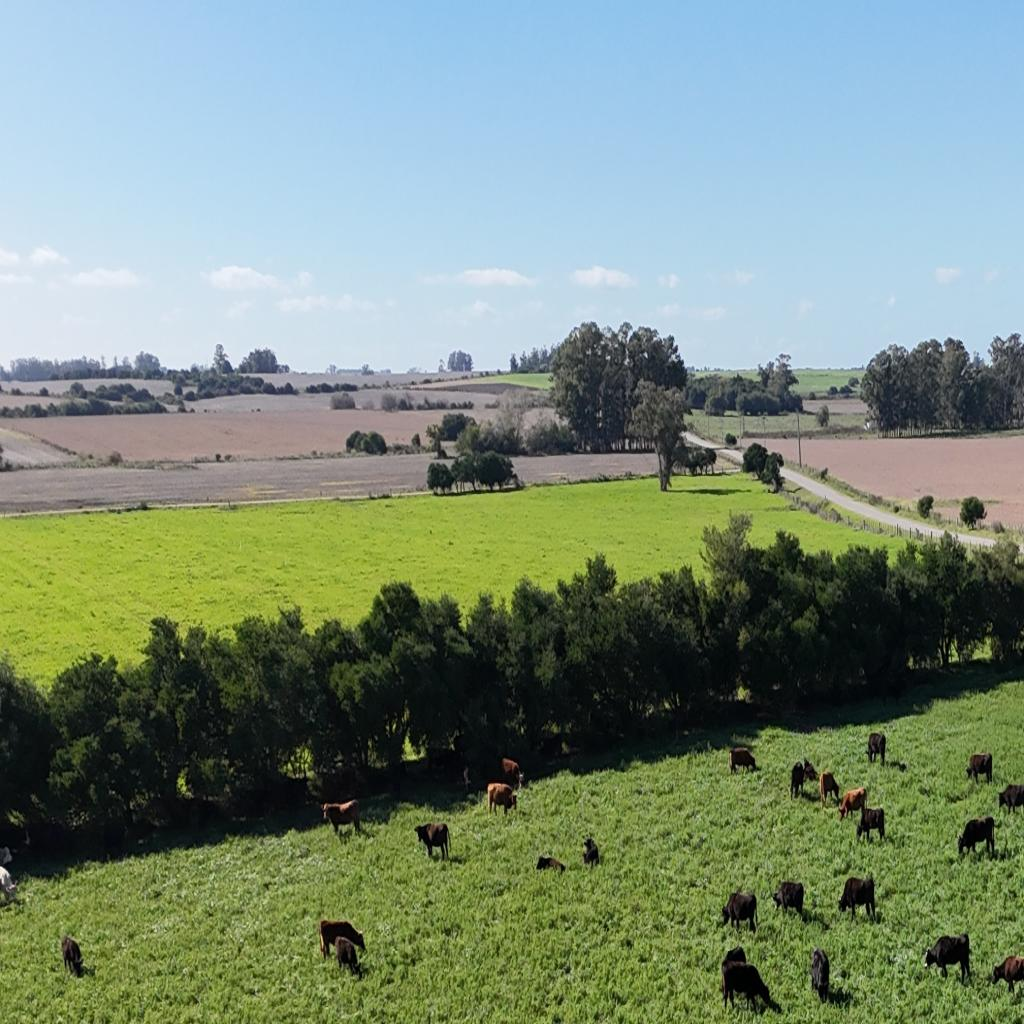cow: (923, 932, 970, 984), (720, 964, 769, 1010), (318, 917, 367, 958), (838, 875, 876, 921), (721, 889, 758, 935), (320, 799, 360, 840), (957, 818, 995, 860), (992, 955, 1024, 999), (412, 823, 450, 858), (771, 880, 804, 917), (334, 936, 362, 979), (838, 787, 870, 824), (810, 946, 829, 1004), (856, 805, 885, 842), (486, 782, 518, 814), (61, 934, 83, 977), (997, 782, 1024, 815), (966, 752, 992, 786), (819, 770, 839, 810), (730, 746, 758, 774), (502, 758, 524, 793), (790, 762, 806, 800), (867, 732, 886, 764), (582, 835, 599, 868), (722, 945, 746, 968), (536, 854, 564, 873), (1, 874, 18, 902), (802, 760, 818, 783), (462, 766, 472, 794), (838, 800, 850, 821)
